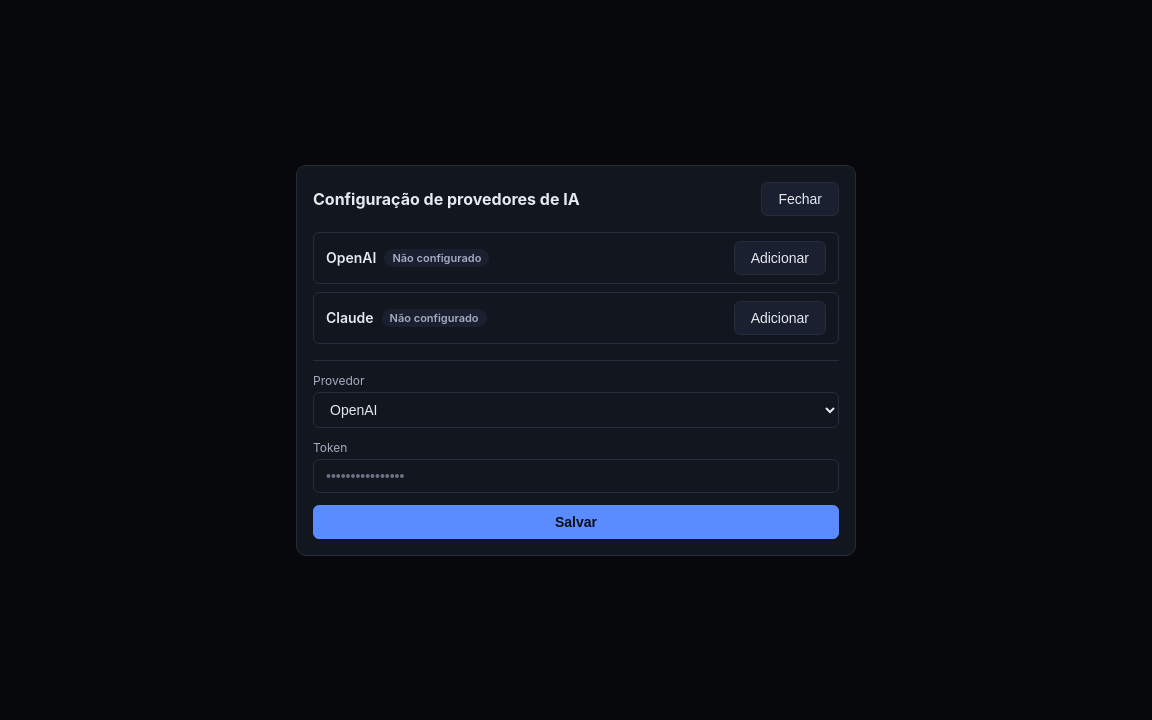
ModalDeConfiguracaoDeProvedores › token vazio bloqueia o salvar com aviso em pt-BR
This screenshot has width=1152, height=720.
Click the button "Salvar".
click(576, 522)  # box [313,504,839,538]
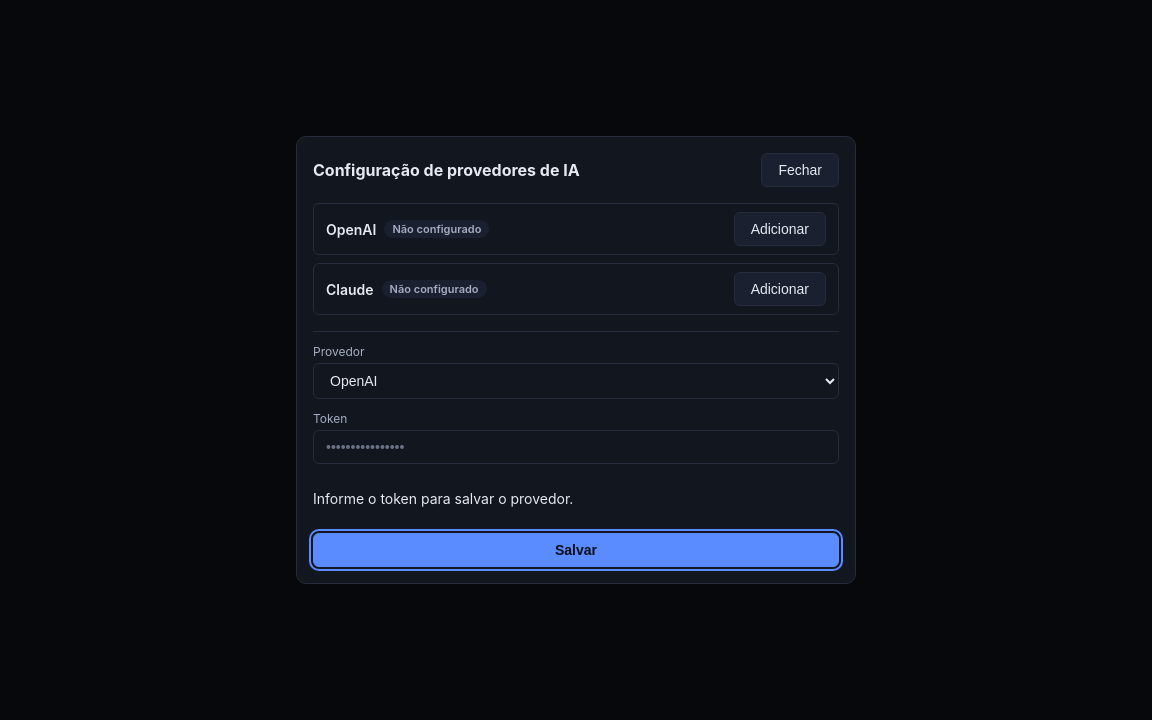
Now the message reads "Informe o token para salvar o provedor.", box [313,490,573,507]
